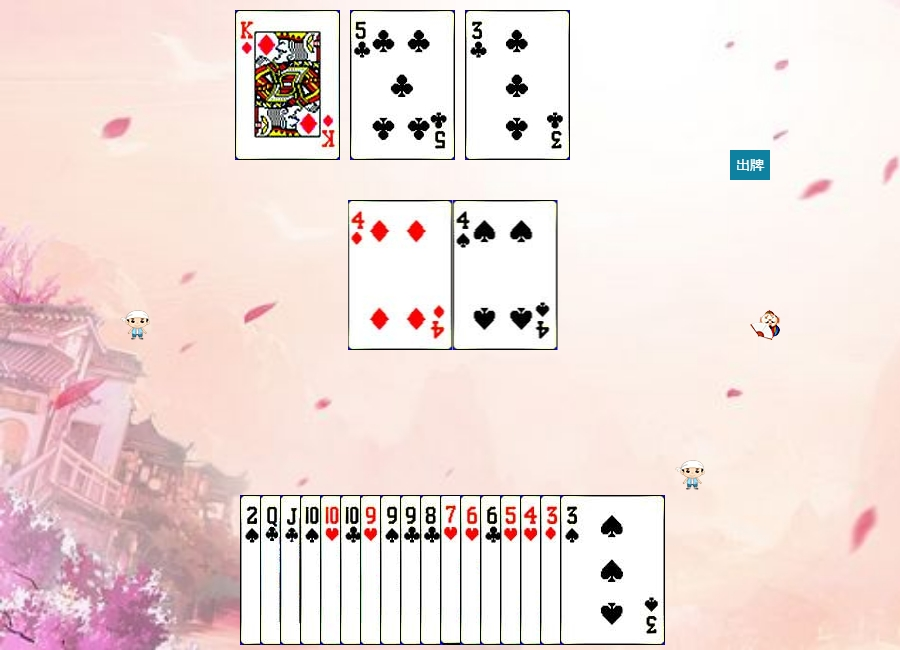10~2: (340, 495, 445, 645)
10~3: (320, 495, 425, 645)
10~4: (300, 495, 405, 645)
11~2: (280, 495, 385, 645)
12~2: (260, 495, 365, 645)
13~1: (235, 10, 340, 160)
15~4: (240, 495, 345, 645)
3~1: (540, 495, 645, 645)
3~2: (465, 10, 570, 160)
3~4: (560, 495, 665, 645)
4~1: (348, 200, 453, 350)
4~3: (520, 495, 625, 645)
4~4: (453, 200, 558, 350)
5~2: (350, 10, 455, 160)
5~3: (500, 495, 605, 645)
6~2: (480, 495, 585, 645)
6~3: (460, 495, 565, 645)
7~3: (440, 495, 545, 645)
8~2: (420, 495, 525, 645)
9~2: (400, 495, 505, 645)
9~3: (360, 495, 465, 645)
9~4: (380, 495, 485, 645)
